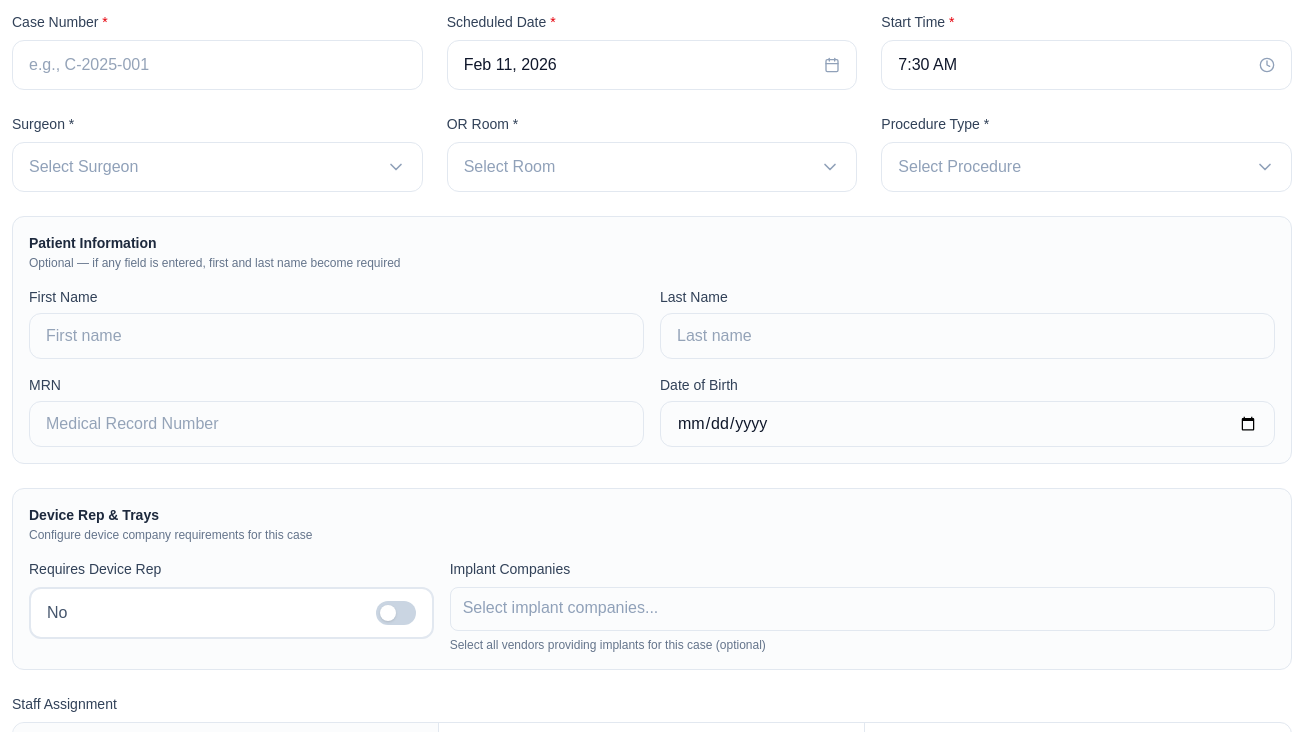
it: CaseForm — Phase 1: Transaction Safety + Validation › 1.3 — Inline Zod validation on blur › clears blur error when user types a valid value
// Trigger blur error
Click the field with placeholder "e.g., C-2025-001": (217, 65) [12,40,423,90]
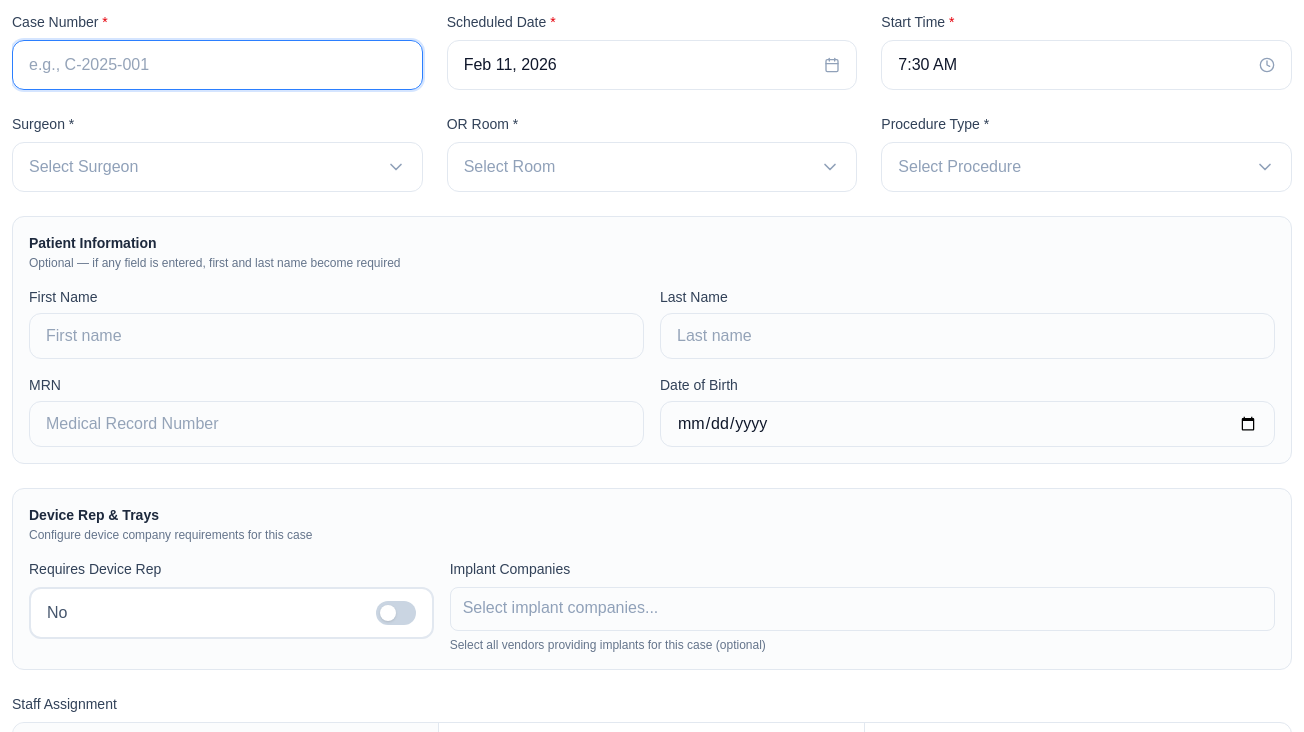
Press Tab
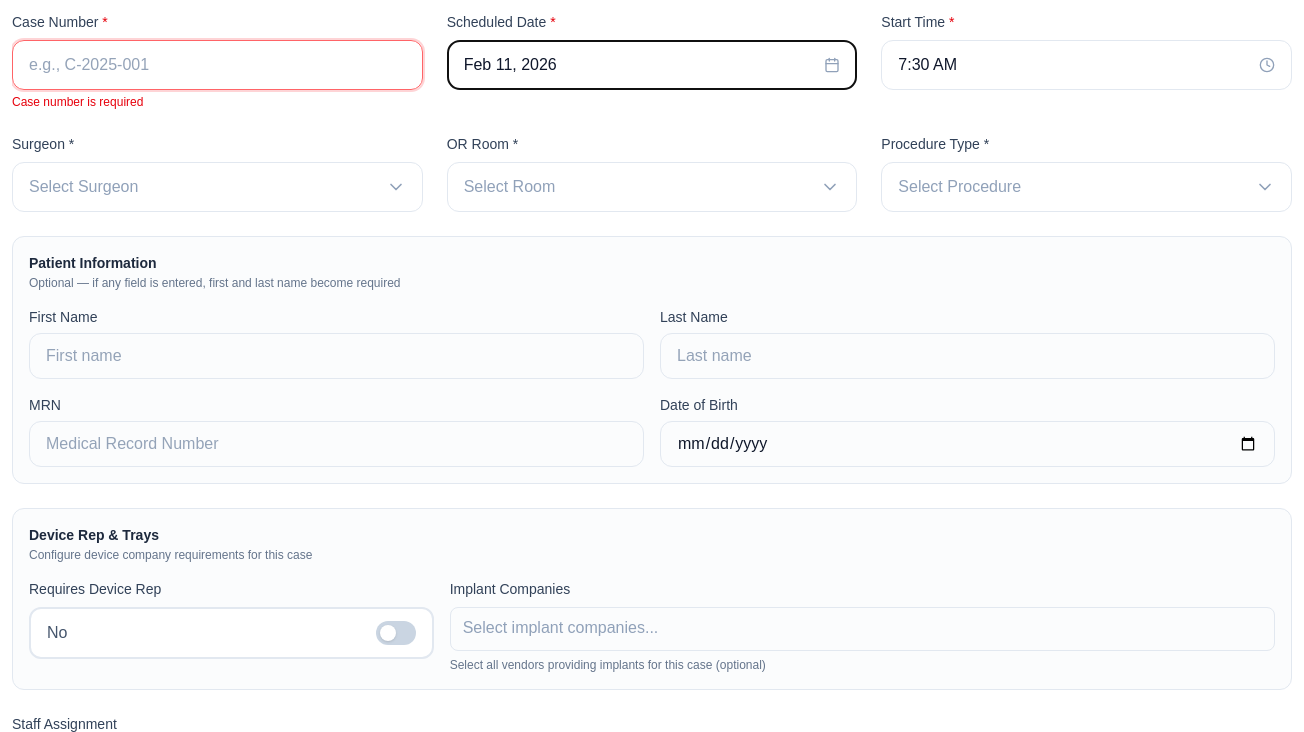
Check: the text "Case number is required" is shown, box [12,95,143,109]
// Type a value — error should clear on change
In the field with placeholder "e.g., C-2025-001": (217, 65) [12,40,423,90], type "C-001"
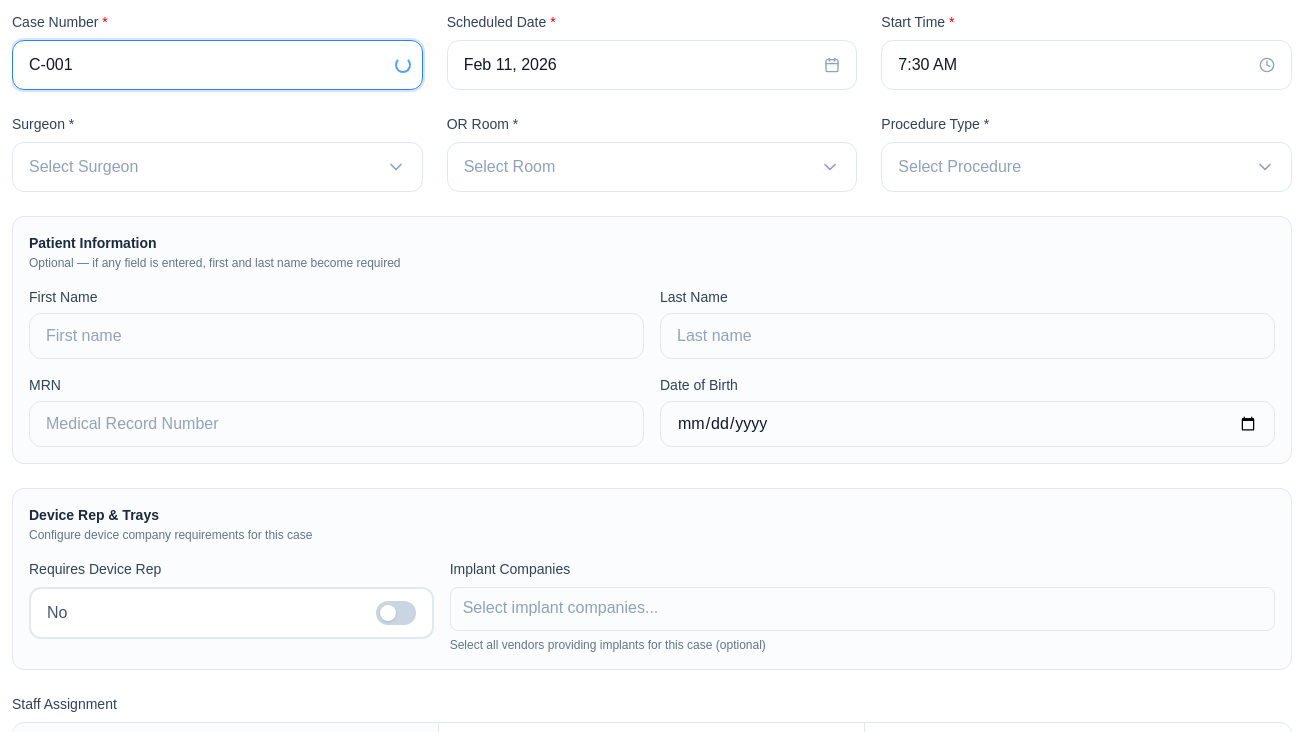
Check: the text "Case number is required" is gone
